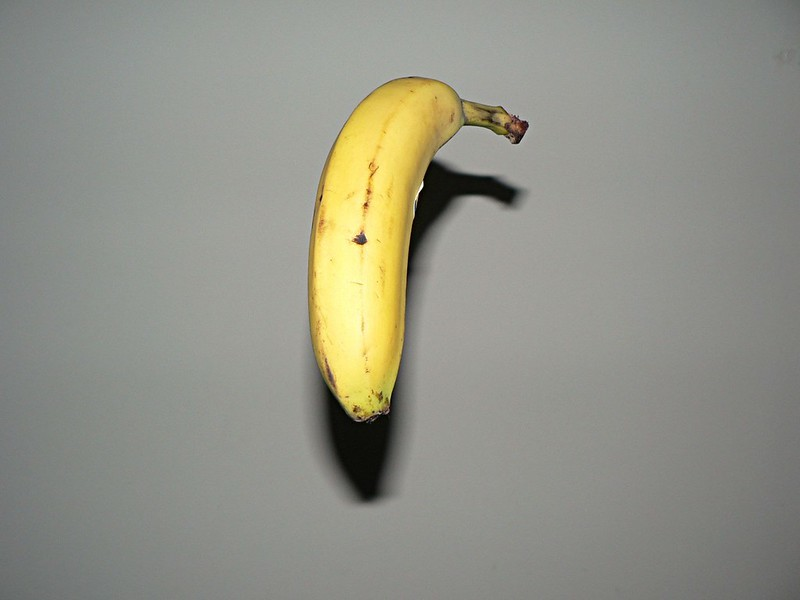banana: (301, 66, 540, 442)
